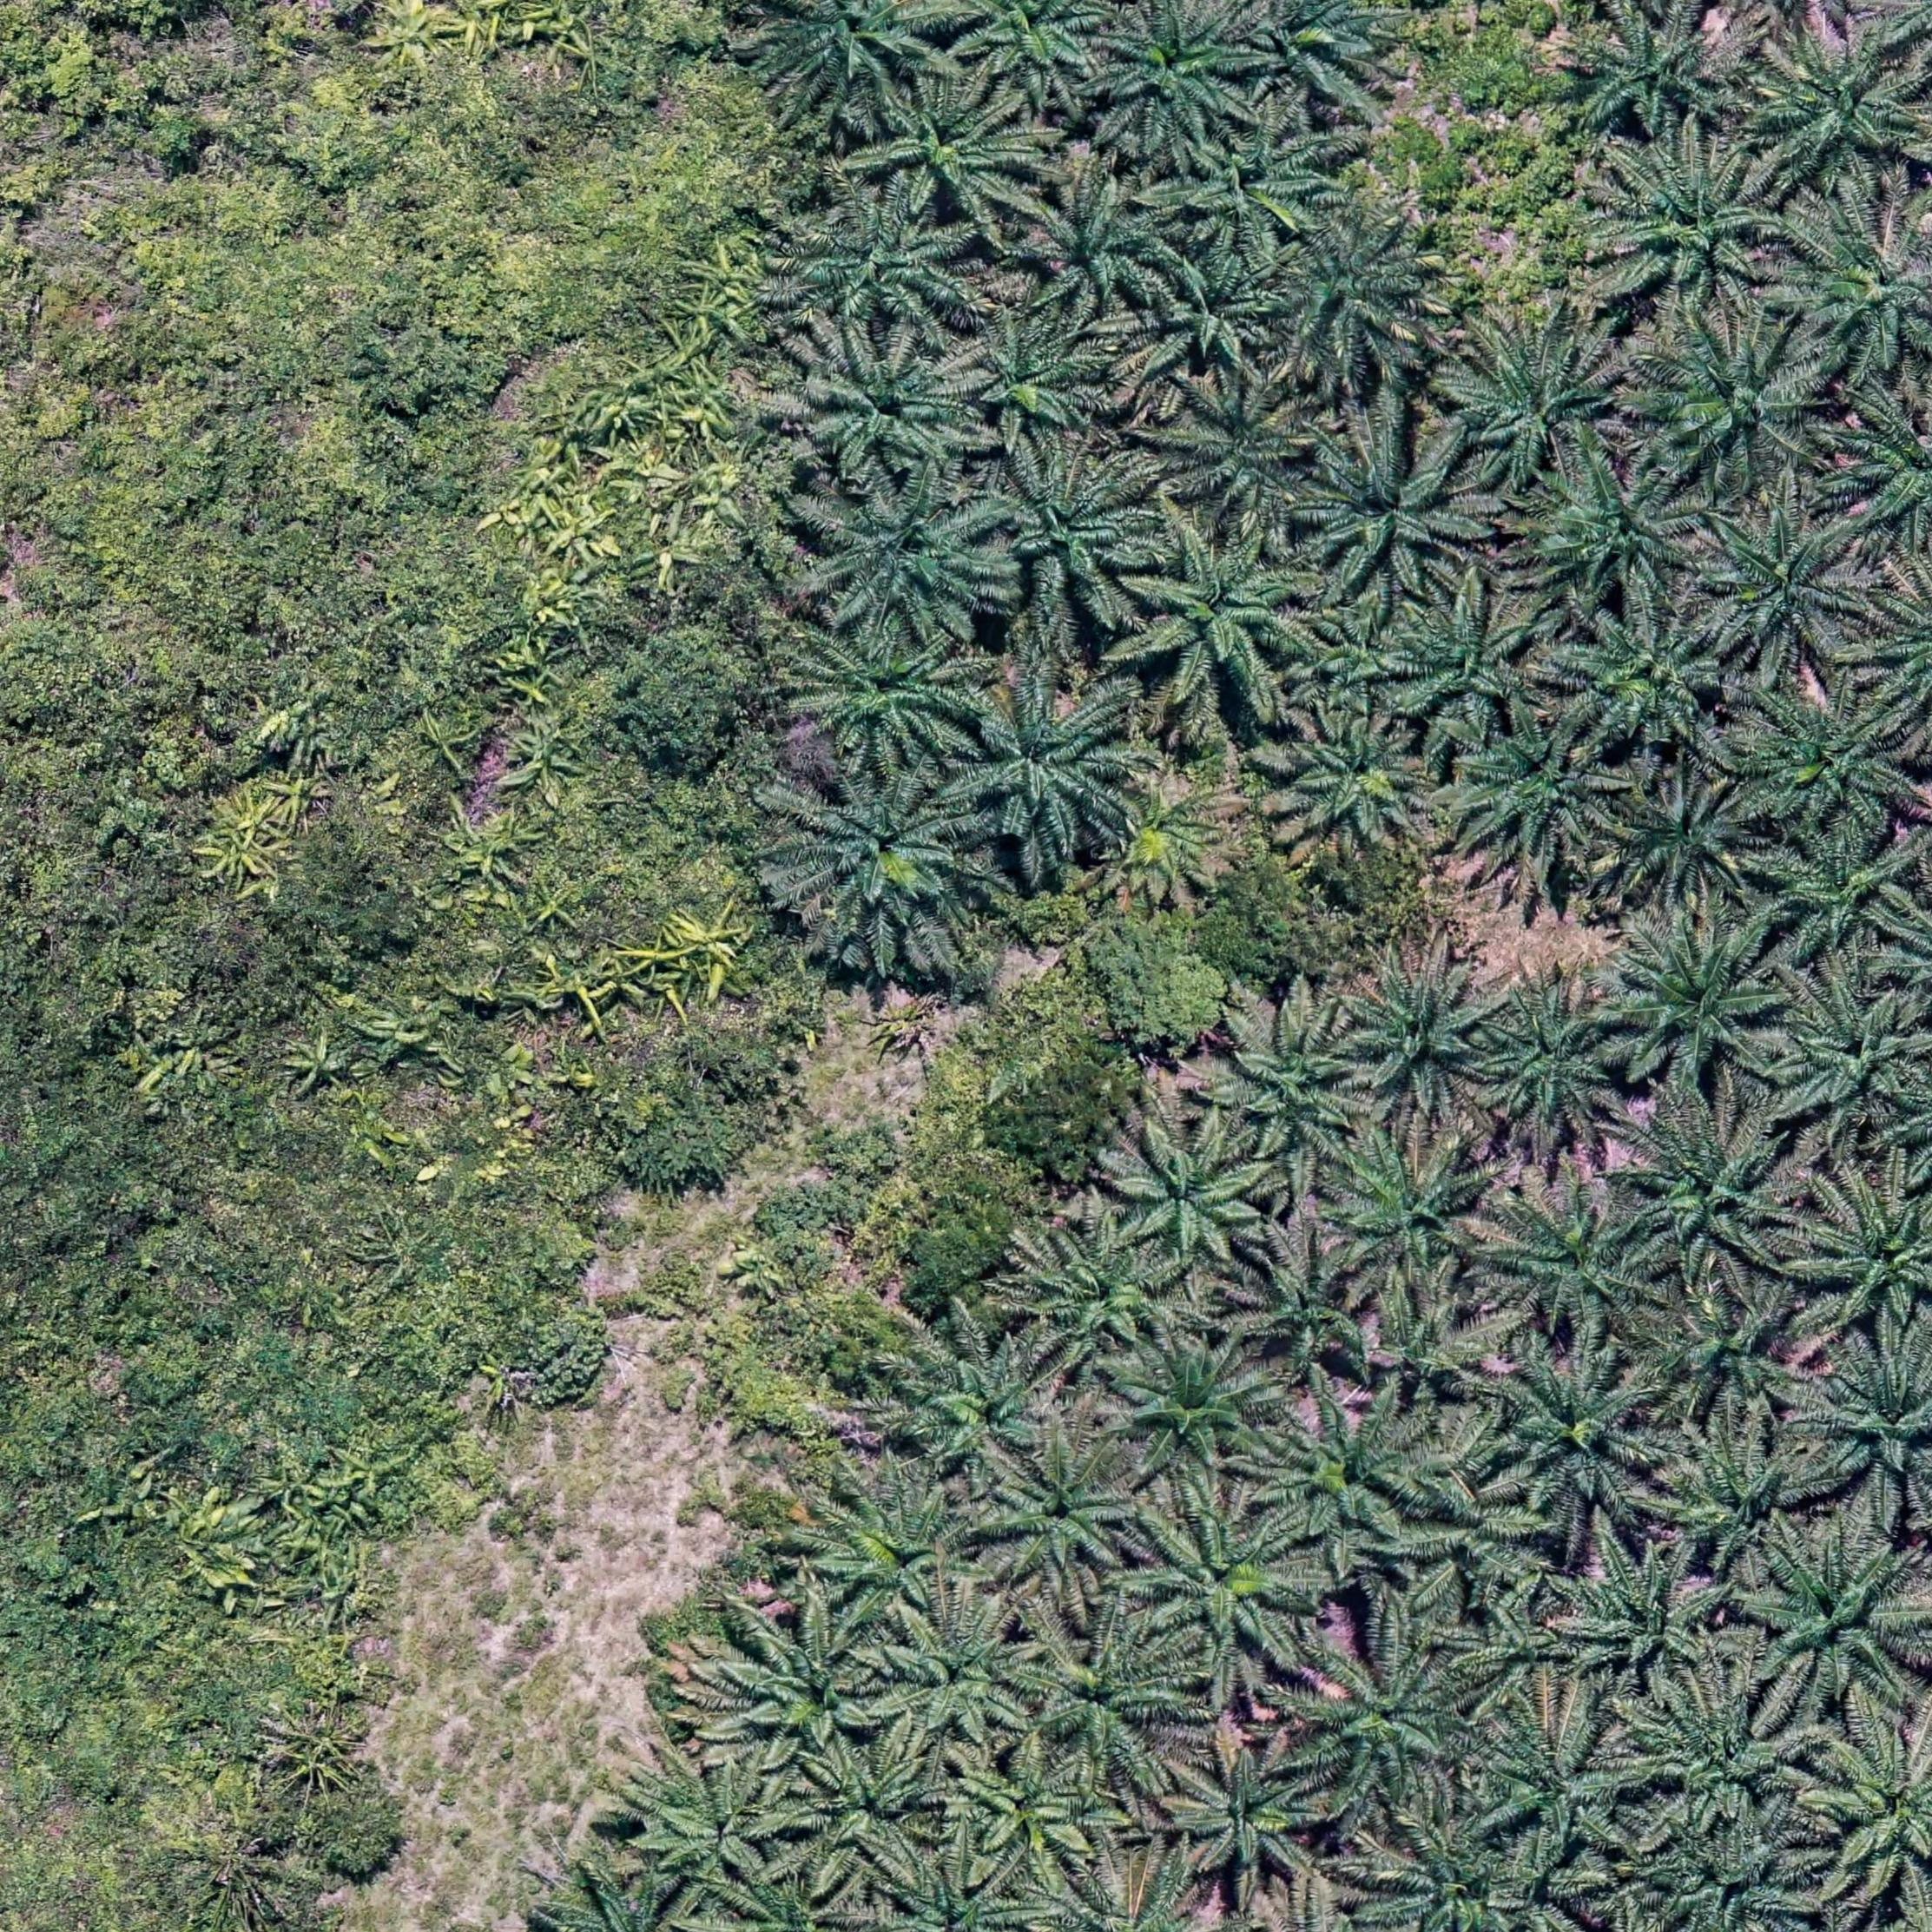palmtree: (1743, 1529, 1932, 1716), (1638, 320, 1838, 495), (1131, 1500, 1318, 1683), (1131, 529, 1316, 711), (1299, 1629, 1488, 1806), (1442, 318, 1631, 495), (1299, 428, 1490, 603), (1606, 915, 1794, 1092), (1486, 1341, 1672, 1516), (1606, 143, 1790, 318), (1622, 1104, 1806, 1279), (980, 448, 1164, 623), (1629, 1677, 1819, 1844), (1546, 1537, 1739, 1698), (1472, 1704, 1658, 1868), (810, 1474, 993, 1640), (1325, 1127, 1504, 1293), (1486, 1182, 1670, 1343), (816, 481, 1005, 637), (1700, 497, 1877, 663), (1024, 1617, 1203, 1780), (1261, 1396, 1442, 1557), (1736, 679, 1918, 839), (961, 683, 1139, 844), (1274, 214, 1445, 380), (1633, 1283, 1822, 1433), (1555, 600, 1736, 757), (787, 191, 975, 341), (1750, 23, 1925, 184), (1525, 451, 1706, 607), (885, 1336, 1067, 1490), (725, 1610, 899, 1771), (794, 775, 977, 925), (978, 1437, 1150, 1596), (1339, 957, 1504, 1122), (1171, 1739, 1341, 1898), (1654, 1428, 1829, 1582), (1451, 711, 1621, 869), (1111, 1330, 1286, 1483), (800, 334, 980, 481), (1214, 1005, 1375, 1166), (1769, 980, 1930, 1141), (1477, 980, 1638, 1138), (1568, 9, 1744, 150), (1277, 706, 1444, 856), (1019, 1219, 1182, 1371), (1787, 212, 1932, 382), (632, 1759, 803, 1900), (1810, 1714, 1932, 1913), (1394, 589, 1559, 736), (1100, 0, 1265, 147), (1115, 1120, 1270, 1274), (872, 74, 1035, 221), (796, 626, 973, 761), (948, 1741, 1113, 1884), (885, 1601, 1042, 1750), (1796, 1175, 1932, 1346), (1178, 122, 1345, 262), (1366, 1808, 1553, 1932), (1606, 777, 1775, 915), (1173, 375, 1327, 525), (794, 1743, 947, 1893), (1760, 821, 1921, 962), (1021, 175, 1182, 315), (1806, 1338, 1932, 1507), (1235, 1235, 1378, 1384), (968, 313, 1120, 451), (1405, 1472, 1553, 1606), (1635, 1828, 1824, 1932), (1143, 248, 1290, 380), (1233, 0, 1396, 113), (771, 0, 941, 104), (1111, 770, 1244, 897), (961, 0, 1122, 103), (1366, 1290, 1499, 1412), (1840, 387, 1932, 550), (1047, 1845, 1207, 1932), (1304, 598, 1424, 711), (1470, 1594, 1571, 1718), (872, 1867, 1046, 1932), (540, 1867, 706, 1932), (1870, 563, 1932, 734), (718, 1874, 869, 1932)
